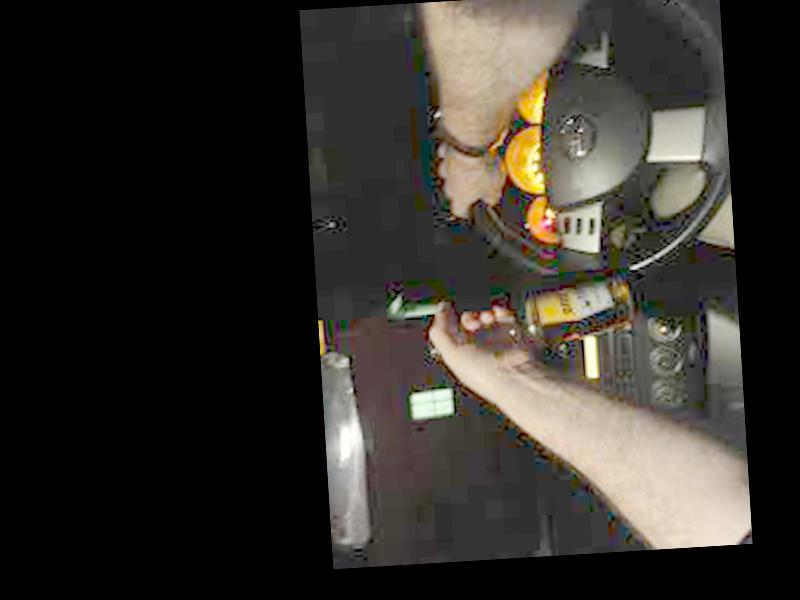Beer: (426, 270, 632, 362)
